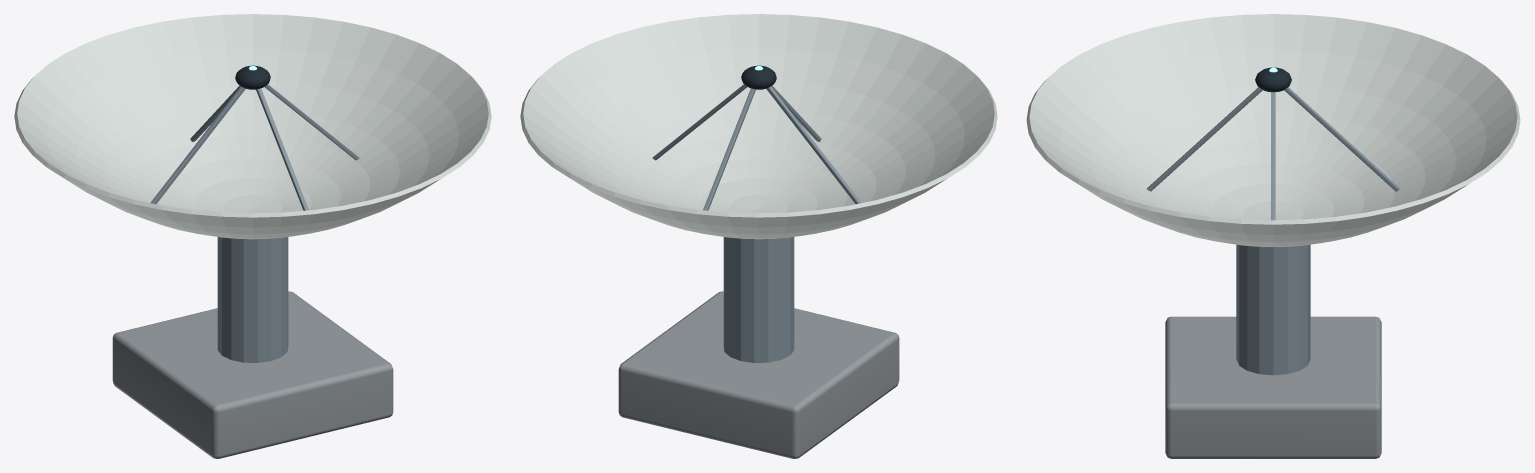
Rendered from SubspaceDish.fbx.
3 views of the same model, side by side, from view 1: azimuth 30°, elevation 25°; view 2: azimuth 150°, elevation 25°; view 3: azimuth 270°, elevation 25° (orthographic). The views are drawn at different scales.
Visible parts, largest first — view 1: SubspaceDish_Ivory, SubspaceDish_Concrete, SubspaceDish_Steel, SubspaceDish_Dark; view 2: SubspaceDish_Ivory, SubspaceDish_Concrete, SubspaceDish_Steel, SubspaceDish_Dark; view 3: SubspaceDish_Ivory, SubspaceDish_Concrete, SubspaceDish_Steel, SubspaceDish_Dark.
Boxes of the visible parts, x1=… form: SubspaceDish_Ivory: x1=14, y1=14, x2=491, y2=239; SubspaceDish_Concrete: x1=112, y1=291, x2=393, y2=458; SubspaceDish_Steel: x1=150, y1=84, x2=359, y2=362; SubspaceDish_Dark: x1=235, y1=65, x2=270, y2=89; SubspaceDish_Ivory: x1=520, y1=14, x2=997, y2=239; SubspaceDish_Concrete: x1=618, y1=291, x2=899, y2=458; SubspaceDish_Steel: x1=652, y1=84, x2=861, y2=362; SubspaceDish_Dark: x1=741, y1=65, x2=776, y2=89; SubspaceDish_Ivory: x1=1026, y1=14, x2=1520, y2=246; SubspaceDish_Concrete: x1=1165, y1=316, x2=1381, y2=458; SubspaceDish_Steel: x1=1147, y1=87, x2=1399, y2=375; SubspaceDish_Dark: x1=1255, y1=67, x2=1291, y2=92.
Size of the model in its own units: 1600 by 1242 by 1600.
